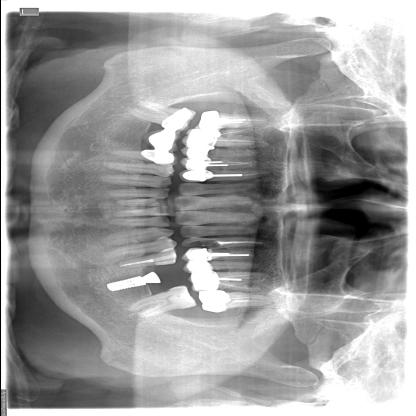ITI: (100, 271, 144, 295)
